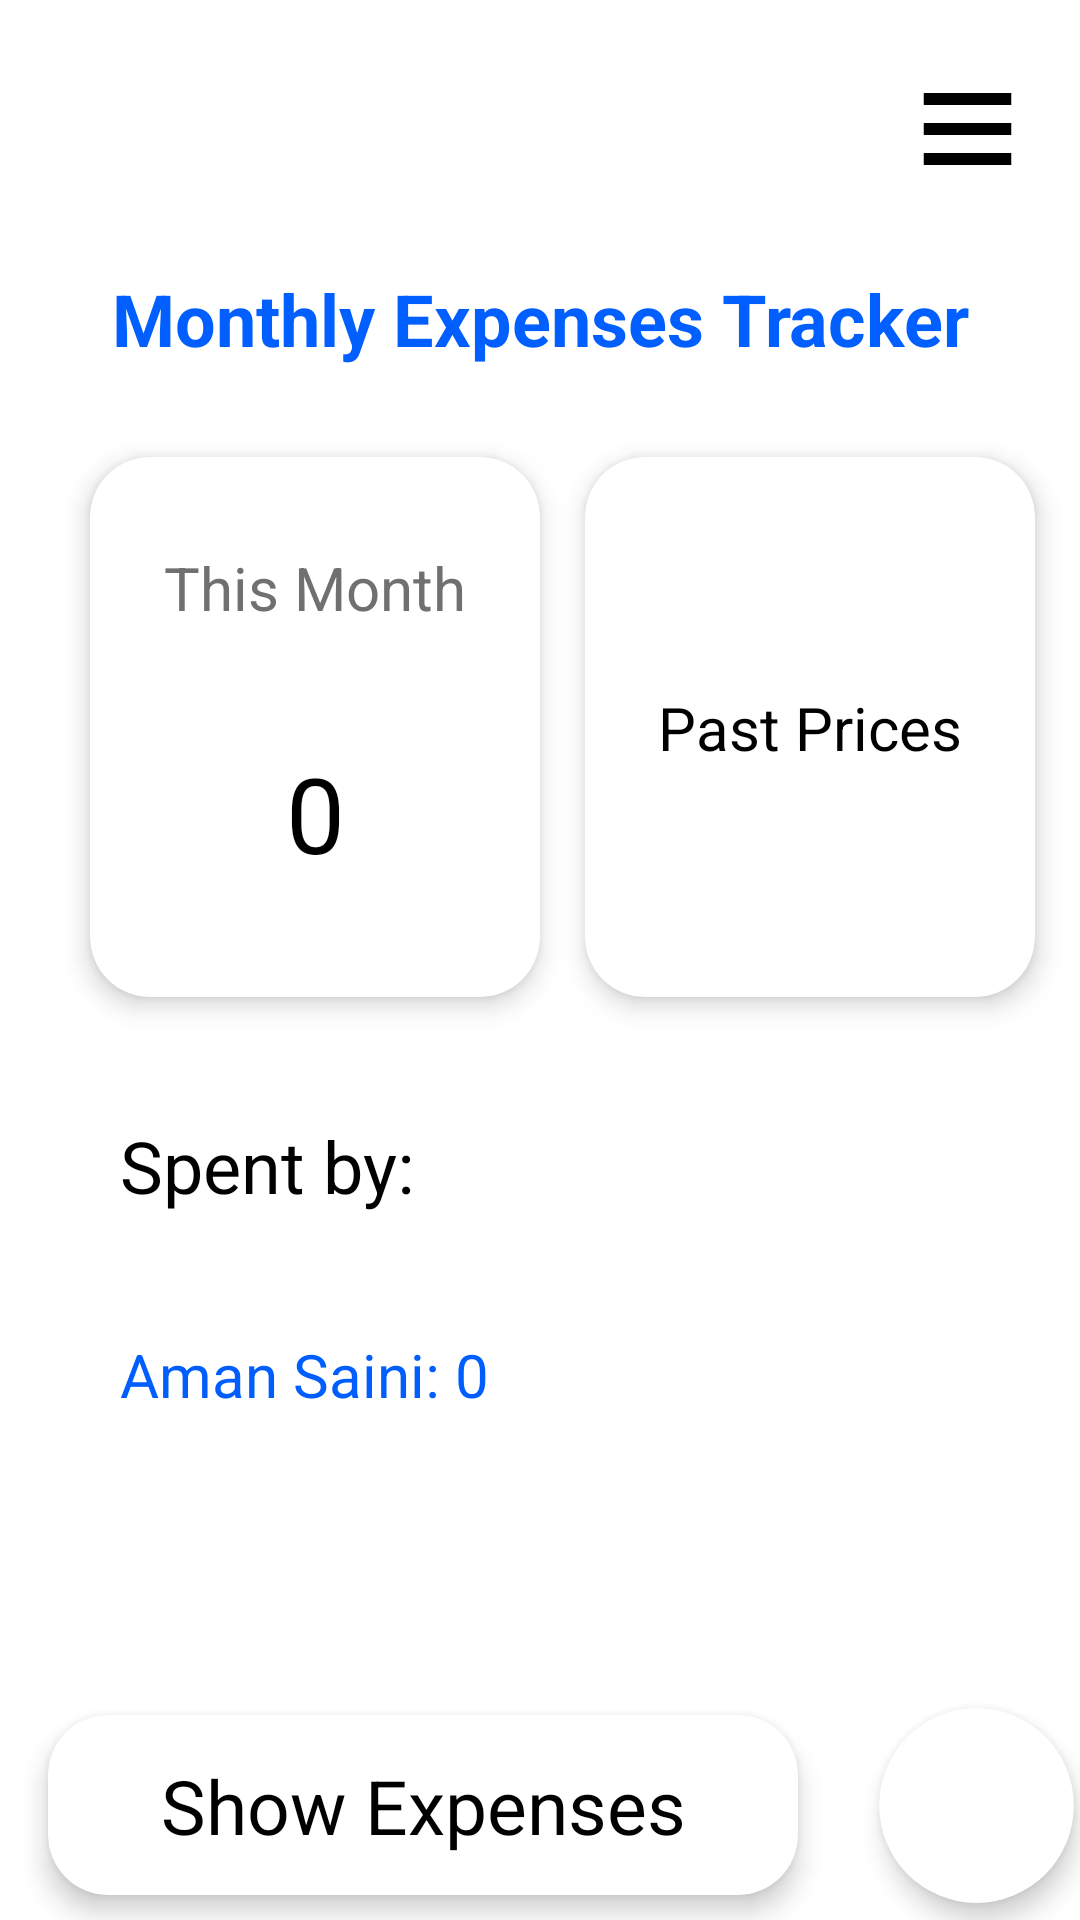

Screen size 1080×1920. Icon name, then its center in pixels as (x=x, y=y):
menubutton: (x=967, y=129)
